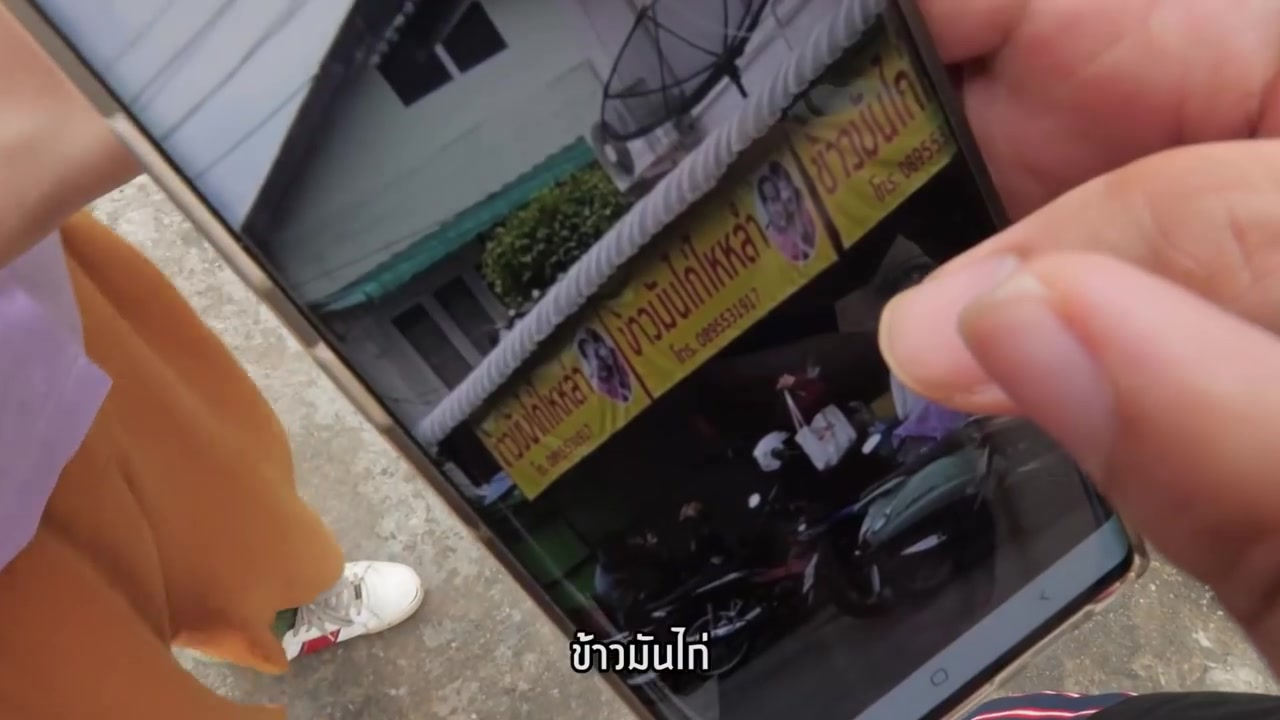text-label: (567, 623, 713, 675)
